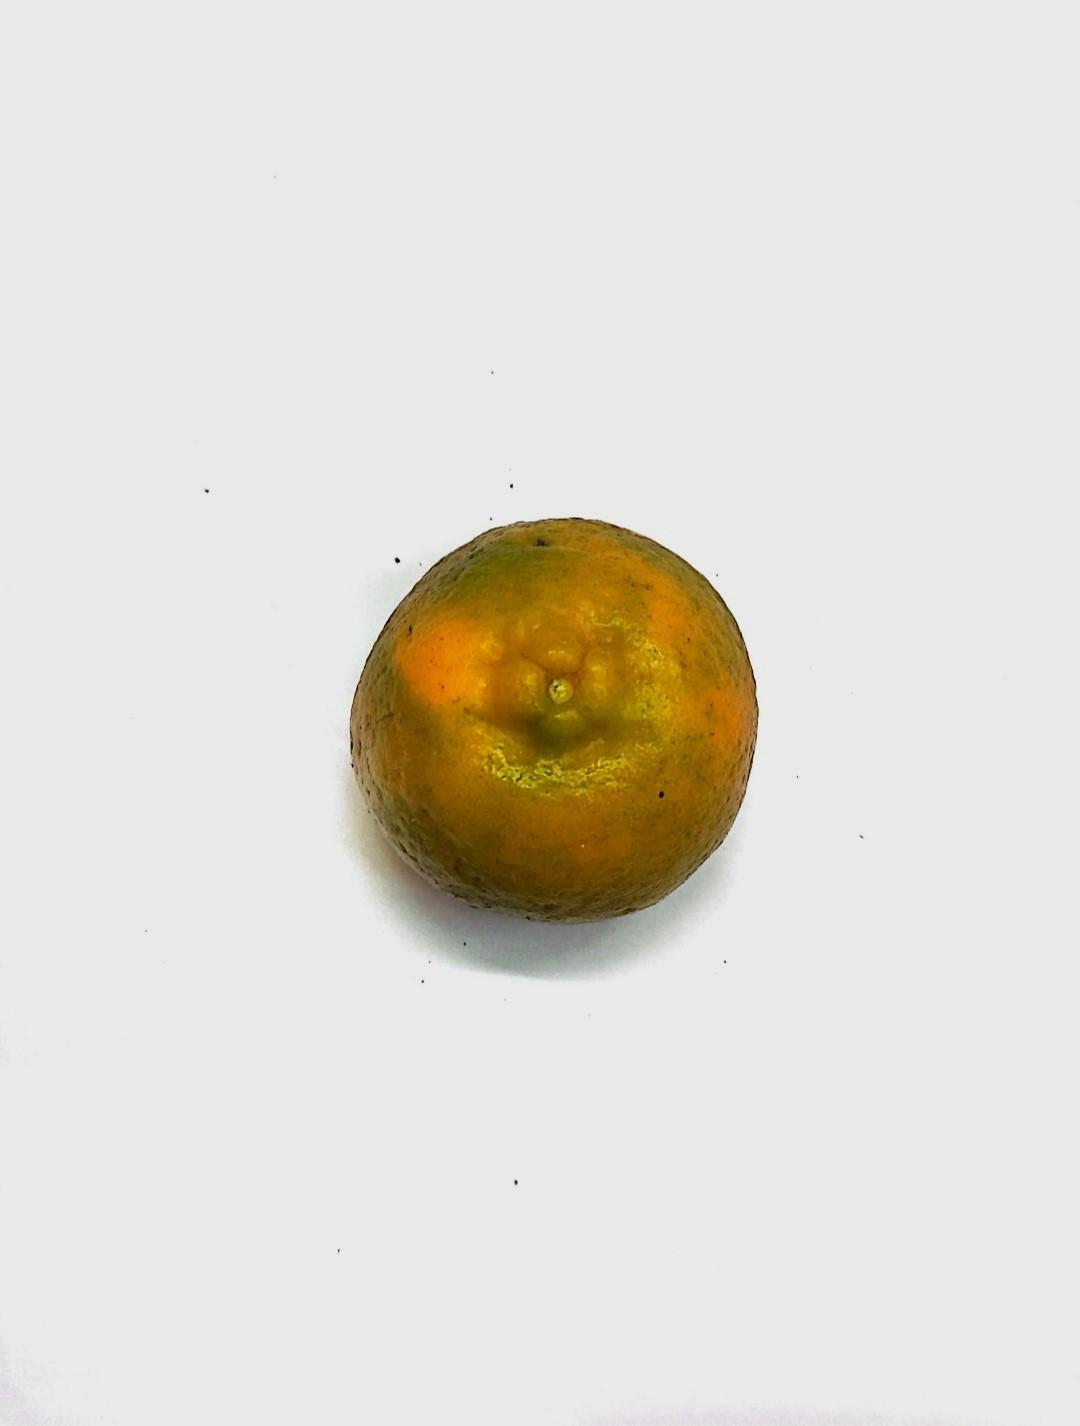Ripe: (347, 520, 763, 913)
